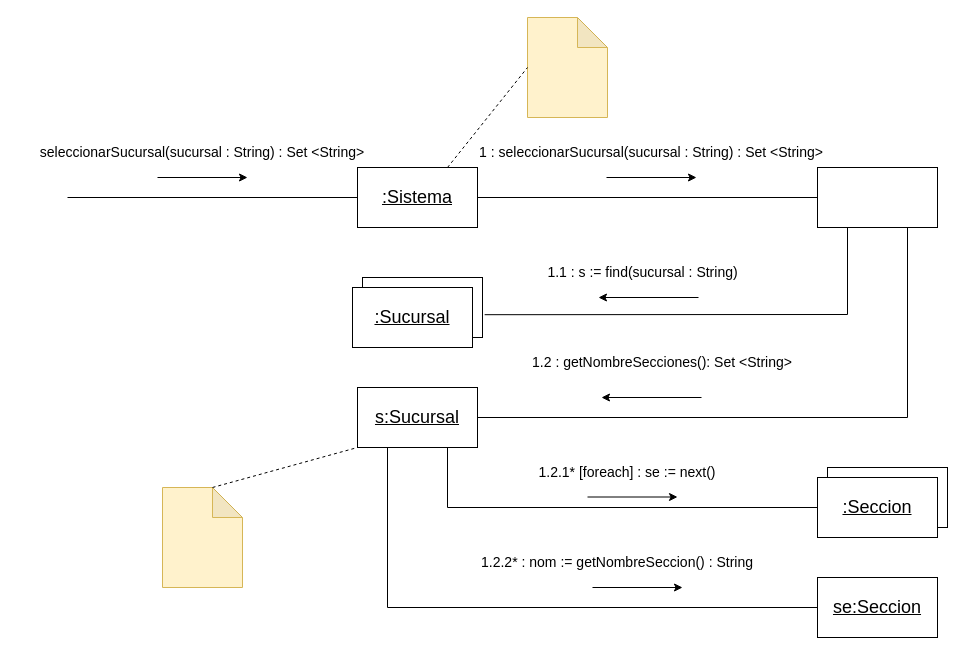
The diagram is 965 pixels wide and 655 high, and some of its shapes have lost their labels. The shapes that lost their labels are listed below. From the top down, each one's centre as x and y in pixels, then its label:
point 567,67: El sistema recuerda la clave 'sucursal'
point 877,197: e:Empresa
point 202,537: Devuelve un set de Strings con todos los 'nom'
